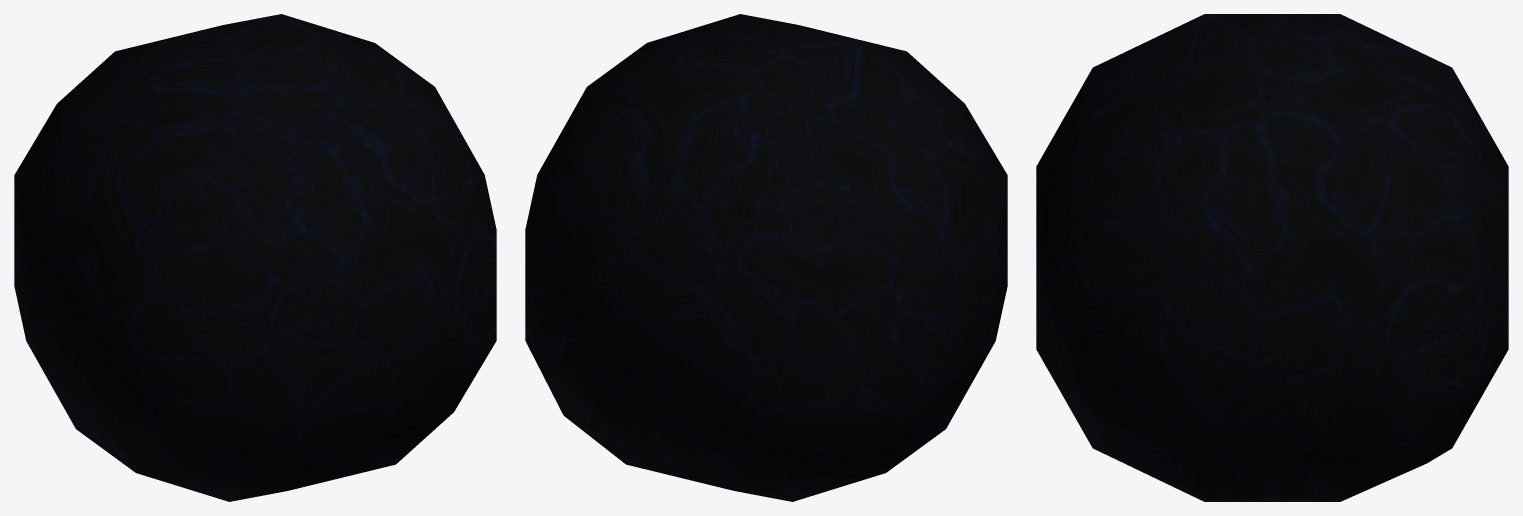
File: pt_droideka_shield_l1.fbx
The picture shows the model from 3 angles, left to right: view 1: azimuth 30°, elevation 25°; view 2: azimuth 150°, elevation 25°; view 3: azimuth 270°, elevation 25°; orthographic projection. The views are drawn at different scales.
Parts seen in each view (by area): view 1: mesh_node; view 2: mesh_node; view 3: mesh_node.
Boxes of the visible parts, bbox=[...] form: mesh_node: bbox=[14, 14, 496, 501]; mesh_node: bbox=[525, 14, 1007, 501]; mesh_node: bbox=[1036, 14, 1508, 501].
Bounding box in the file's own units: 1.53 × 1.53 × 1.53.
